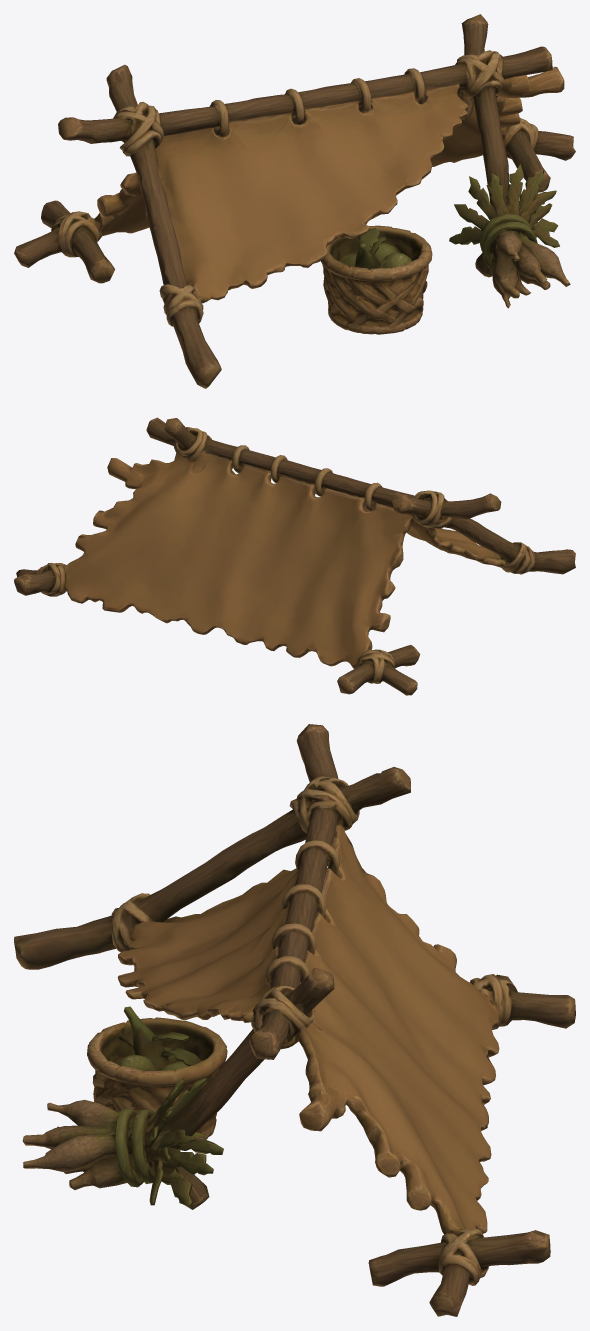
The model's file is Foraging Tent (Middle Eastern).fbx.
3 renders of one model, top to bottom at view 1: azimuth 30°, elevation 25°; view 2: azimuth 150°, elevation 25°; view 3: azimuth 270°, elevation 25°, orthographic. The views are drawn at different scales.
Visible parts, largest first — view 1: tripo_node_2e0b2d61; view 2: tripo_node_2e0b2d61; view 3: tripo_node_2e0b2d61.
Boxes of the visible parts, x1,y1,x2,y2 form: tripo_node_2e0b2d61: (14,14,575,388); tripo_node_2e0b2d61: (14,417,575,695); tripo_node_2e0b2d61: (14,724,575,1316).
Bounding box in the file's own units: 1 × 0.3716 × 0.6977.
